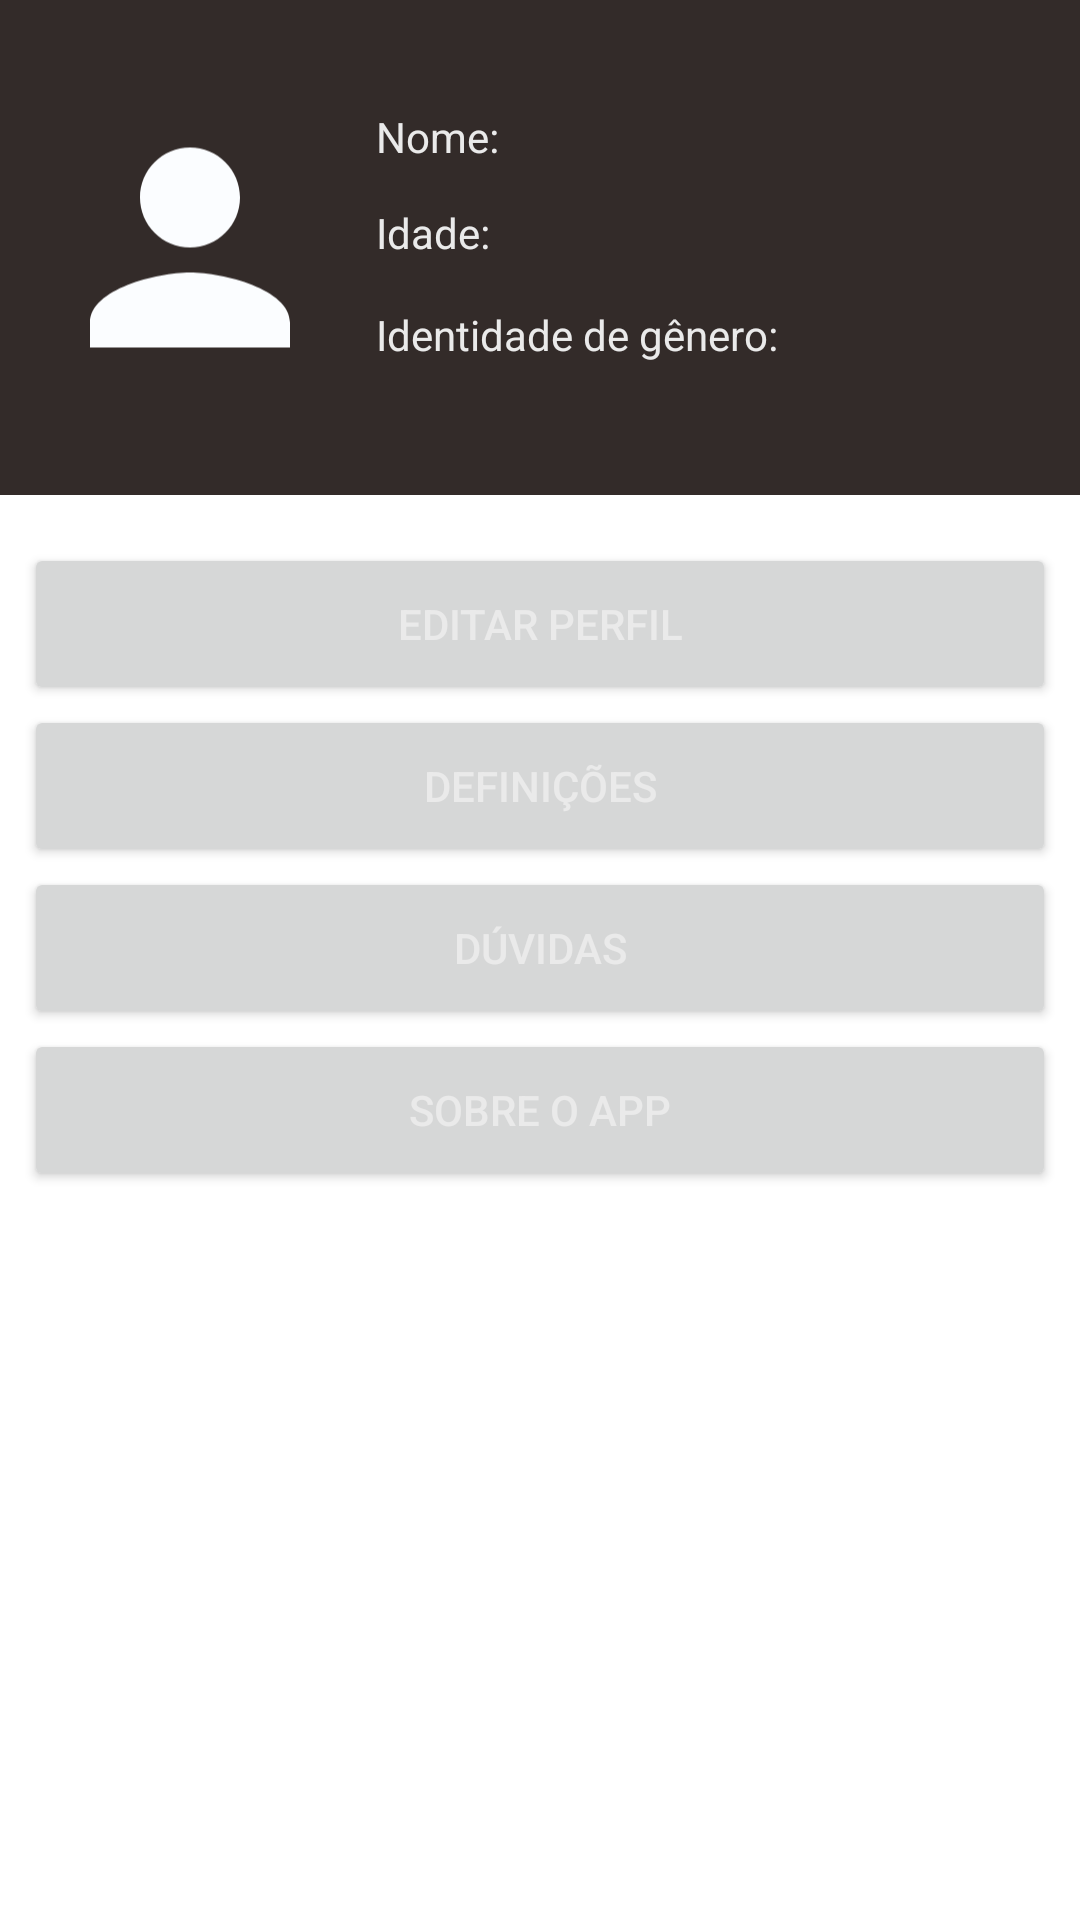

Screen size 1080w x 1920h. Icon name, then its center in pixels as [x,y]:
Avatar do usuário: [190,247]
